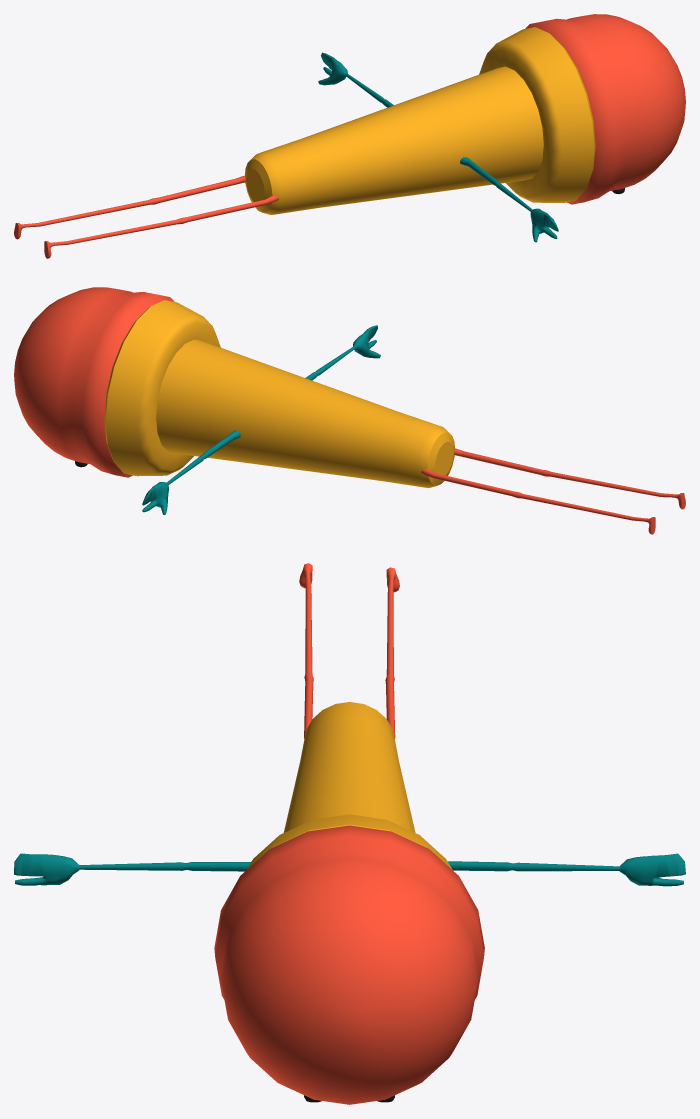
Rendered from IceCreamMan 1.fbx.
3 renders of one model, top to bottom at view 1: azimuth 30°, elevation 25°; view 2: azimuth 150°, elevation 25°; view 3: azimuth 270°, elevation 25°, orthographic. The views are drawn at different scales.
Parts seen in each view (by area): view 1: mesh_char_094; view 2: mesh_char_094; view 3: mesh_char_094.
Part boxes in pixels (x1,y1,x2,y2): mesh_char_094: (14,14,685,258); mesh_char_094: (14,287,685,534); mesh_char_094: (14,563,685,1104).
Bounding box in the file's own units: 562 × 142 × 353.
